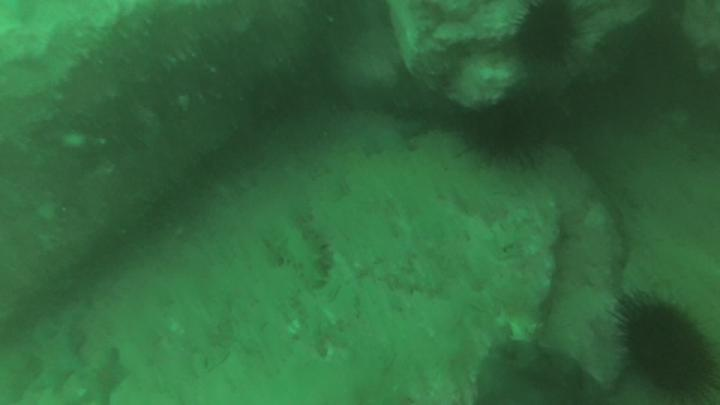echinus: (628, 302, 715, 402), (466, 106, 536, 163), (515, 4, 577, 61)
holothurian: (265, 220, 328, 288), (296, 295, 331, 350)
starfish: (32, 332, 83, 392), (75, 346, 128, 402)
